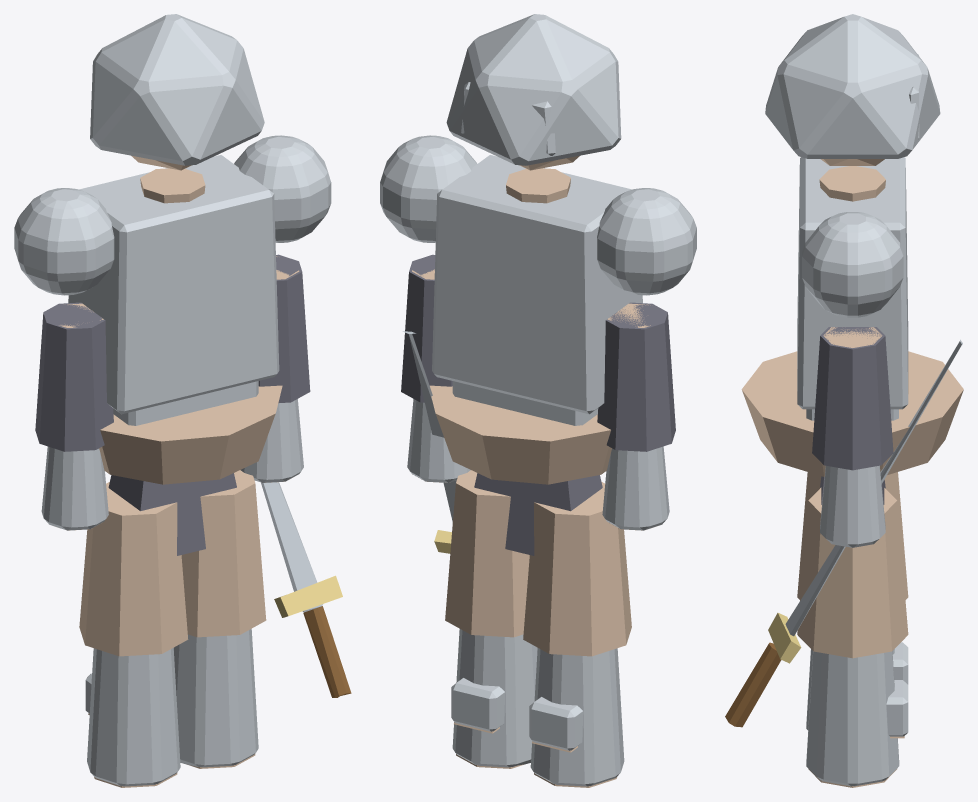
The model's file is a8effd8e-2163-4b8f-80c7-23dd5d3c1dd3_final.glb.
3 views of the same model, side by side, from view 1: azimuth 30°, elevation 25°; view 2: azimuth 150°, elevation 25°; view 3: azimuth 270°, elevation 25° (orthographic).
Parts seen in each view (by area): view 1: Knight_Armor, Knight_Body, Knight_Underclothing, Knight_Sword; view 2: Knight_Armor, Knight_Body, Knight_Underclothing, Knight_Sword; view 3: Knight_Armor, Knight_Body, Knight_Underclothing, Knight_Sword.
Boxes of the visible parts, box(x1,y1,x2,y2) form: Knight_Armor: box(14, 14, 331, 786); Knight_Body: box(59, 155, 299, 787); Knight_Underclothing: box(35, 254, 310, 555); Knight_Sword: box(261, 482, 351, 697); Knight_Armor: box(380, 14, 696, 786); Knight_Body: box(412, 155, 650, 787); Knight_Underclothing: box(401, 254, 675, 555); Knight_Sword: box(402, 331, 456, 553); Knight_Armor: box(765, 14, 940, 786); Knight_Body: box(741, 159, 963, 787); Knight_Underclothing: box(812, 327, 893, 504); Knight_Sword: box(725, 339, 962, 727).
Bounding box in the file's own units: 0.9338 × 2.18 × 0.6449.
